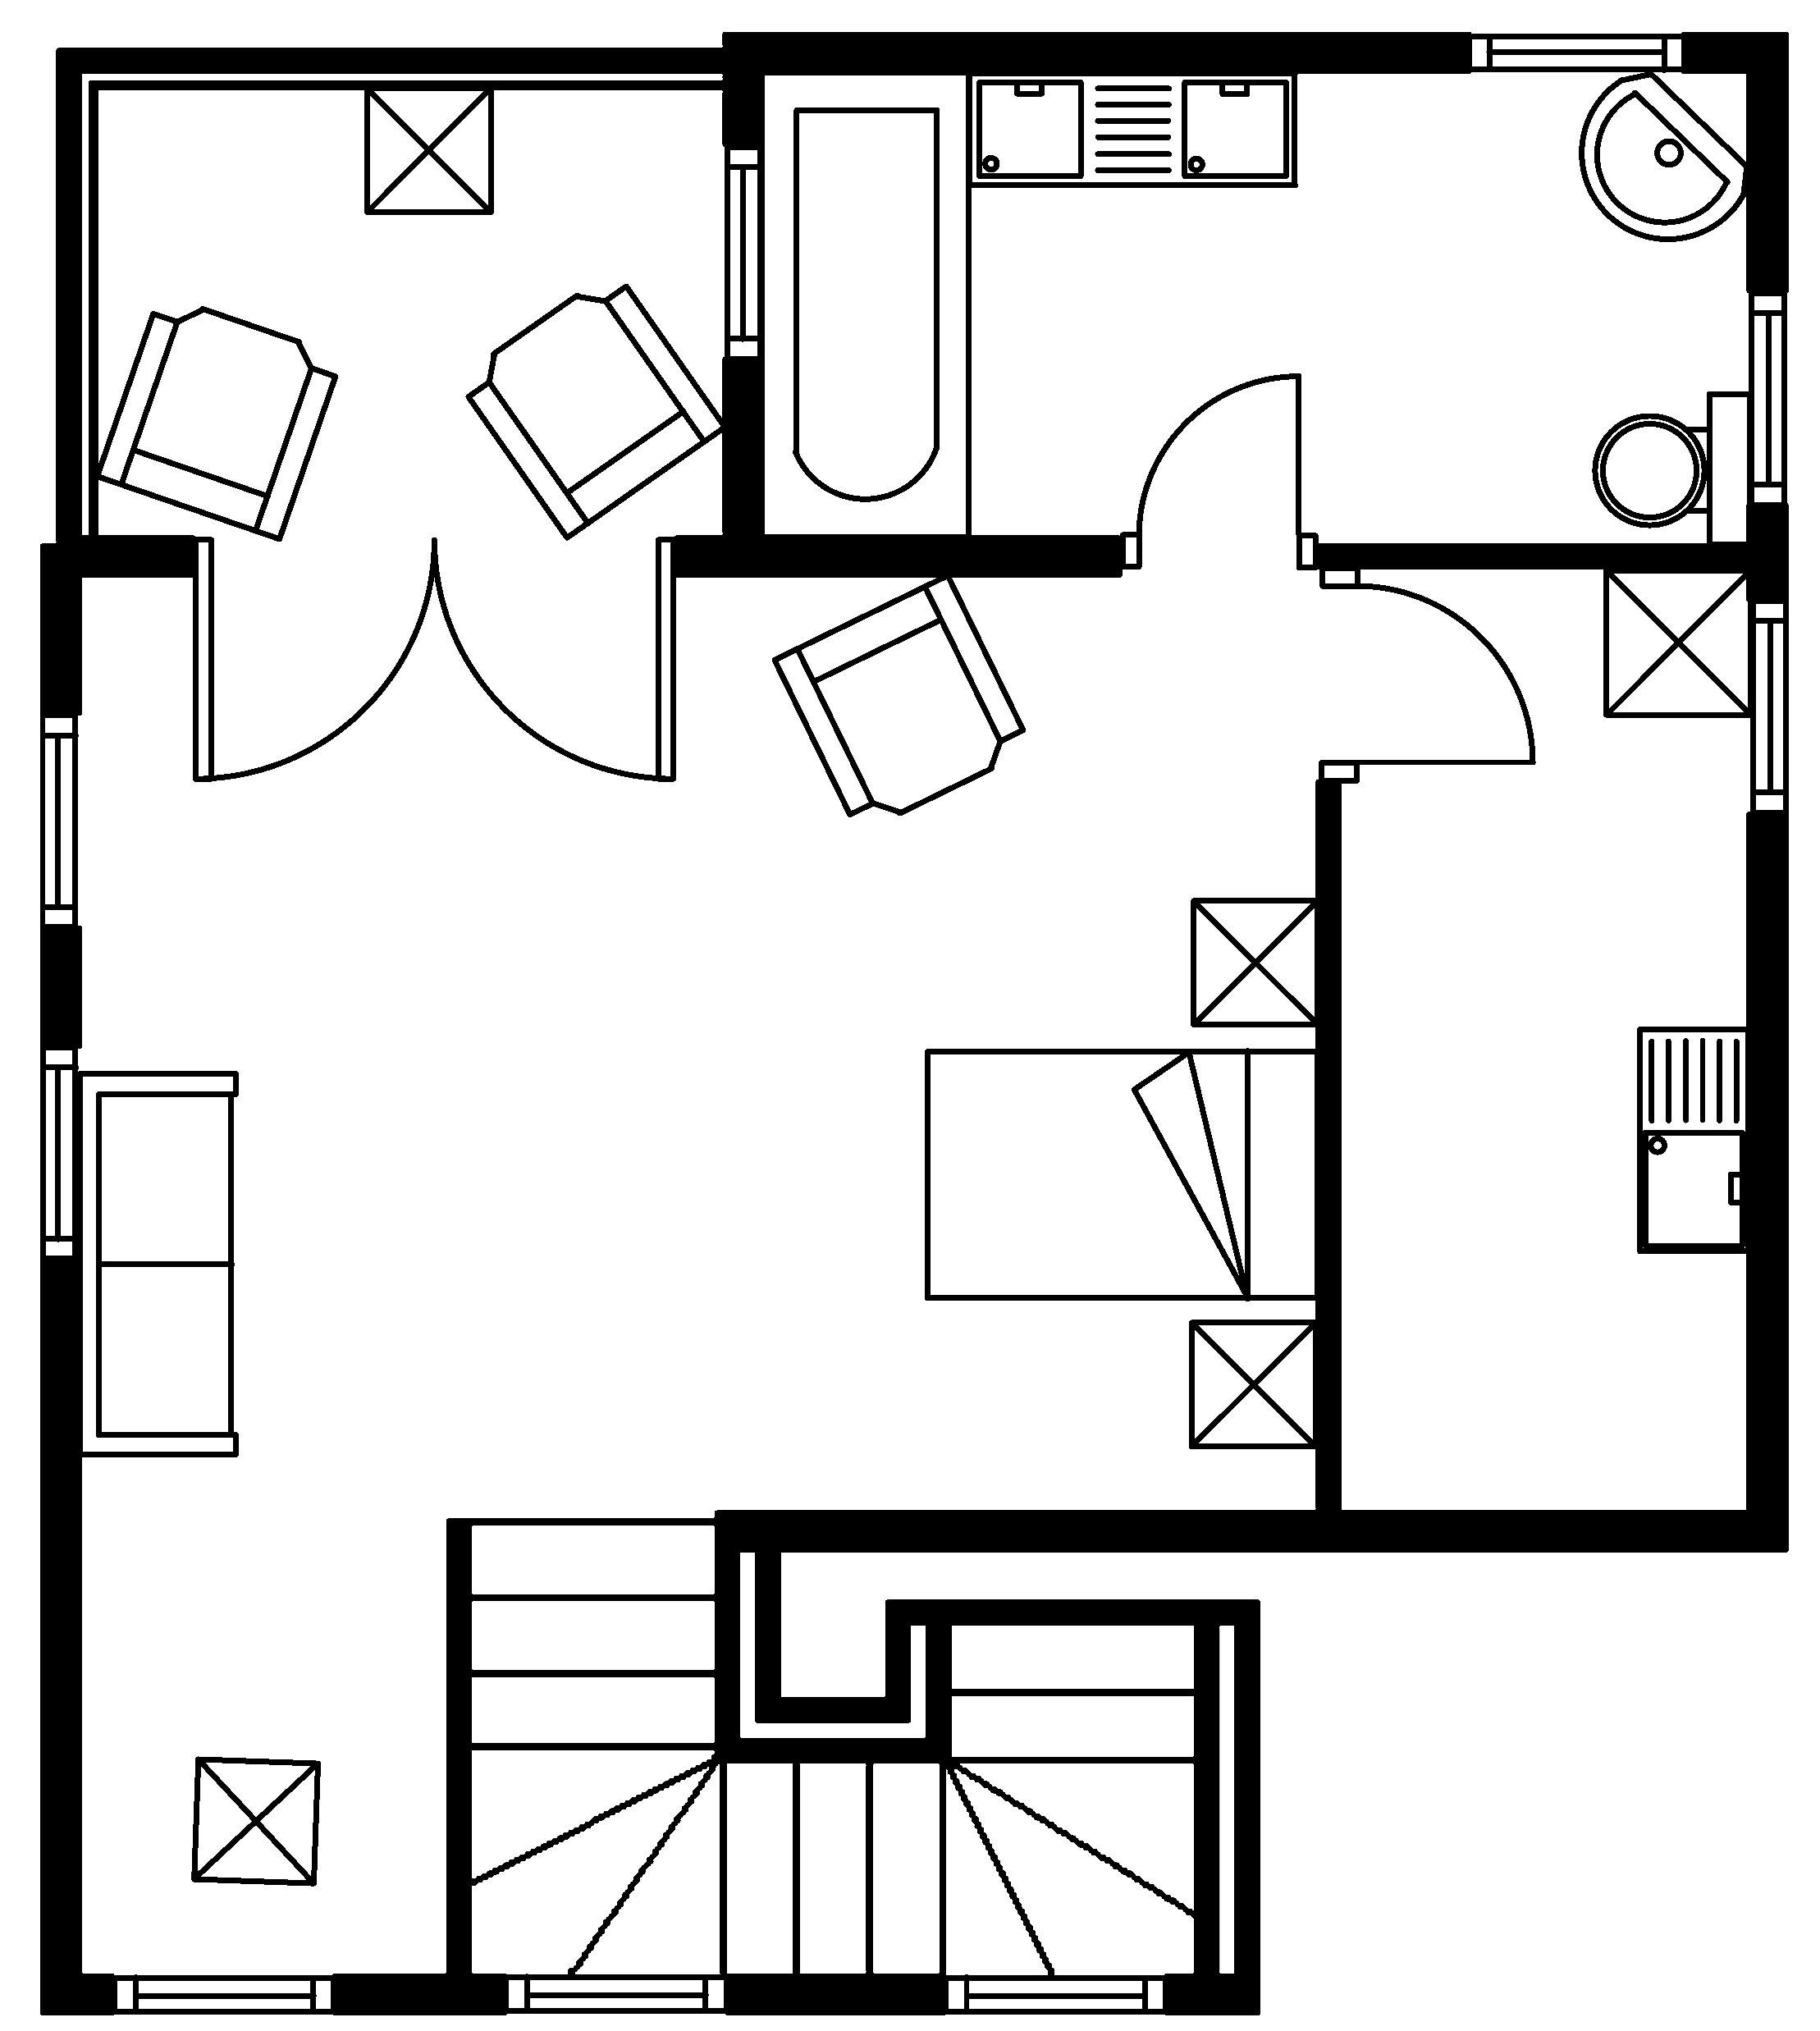armchair: (464, 281, 727, 541), (769, 571, 1026, 817), (93, 304, 337, 543)
bed: (922, 1047, 1321, 1302)
coffee_table: (1602, 566, 1753, 719), (1186, 1318, 1319, 1449), (1189, 896, 1321, 1028), (190, 1755, 321, 1887), (362, 84, 494, 214)
large_sink: (1592, 388, 1753, 548)
large_sofa: (76, 1070, 239, 1458)
sink: (1636, 1024, 1751, 1254)
small_sink: (1578, 70, 1750, 241)
tub: (757, 69, 971, 539)
twin_sink: (964, 69, 1298, 188)
